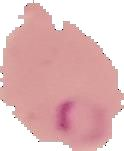parasitized: (53, 92, 111, 143)
